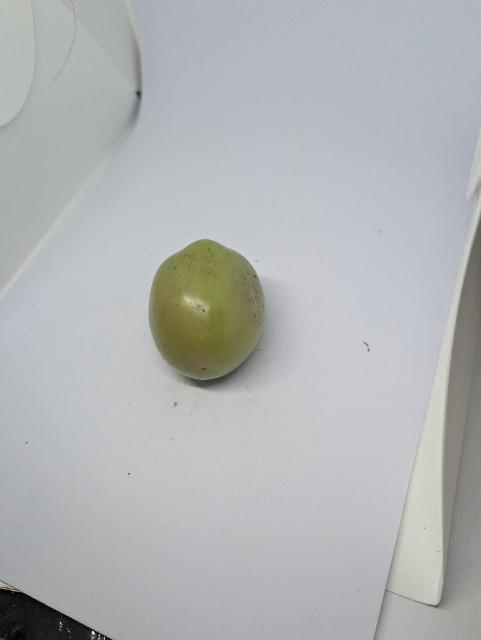green: (146, 236, 269, 382)
